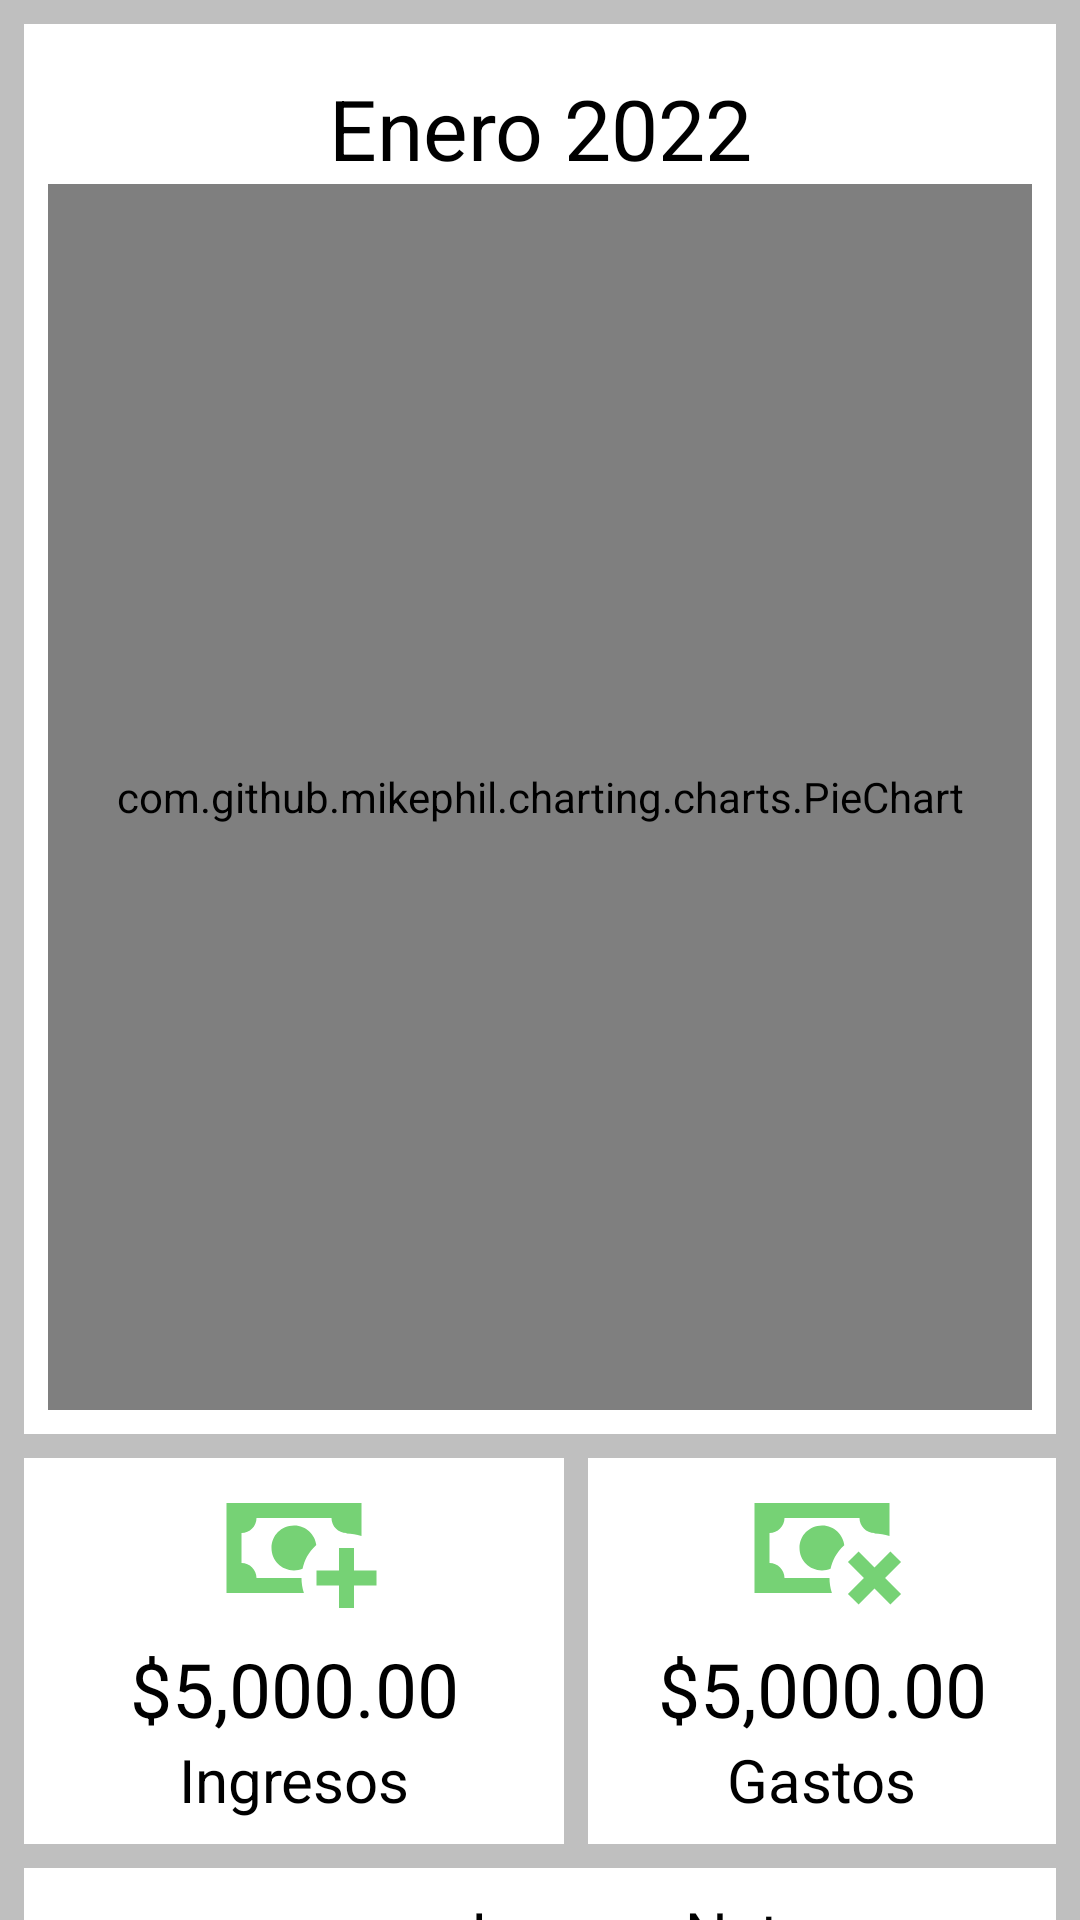

Locate icon controls on the screen. Image size 1080 x 1920, boxes as bbox=(x1, y1, x2, y2).
cash plus: bbox=(226, 1503, 377, 1608)
cash remove: bbox=(754, 1503, 901, 1605)
